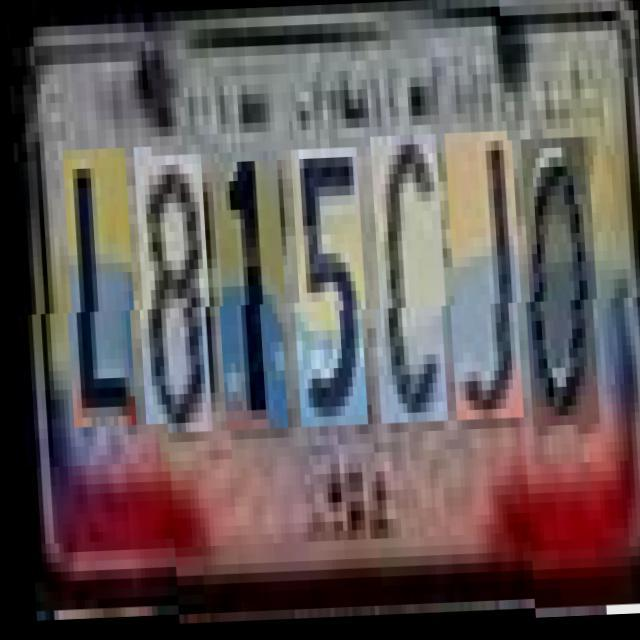1: (212, 154, 287, 432)
5: (288, 150, 367, 430)
8: (132, 156, 212, 435)
C: (368, 138, 448, 427)
J: (443, 135, 523, 424)
L: (61, 158, 136, 438)
O: (518, 132, 598, 422)
